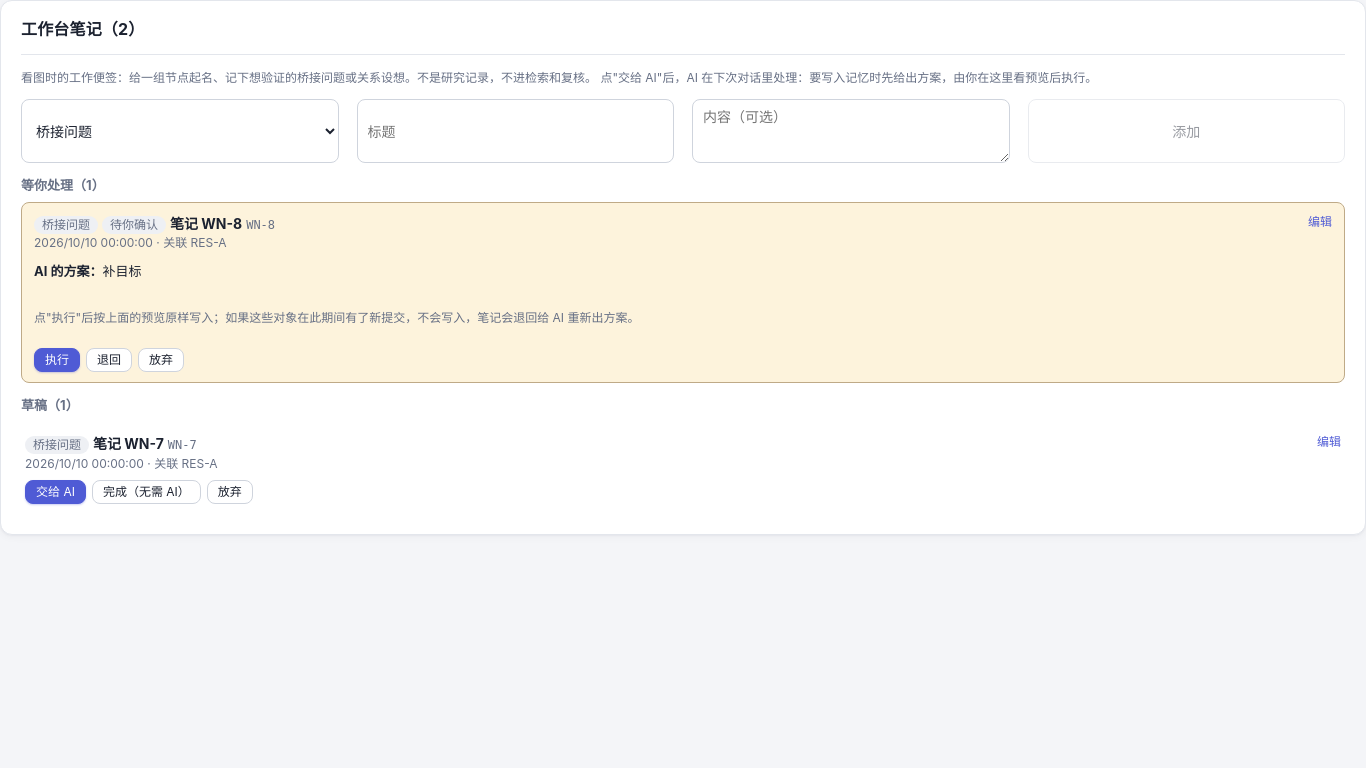
Scenario: 工作台笔记（R15） › 已添加的笔记可以编辑；改动待确认的方案会先确认并作废方案
The image size is (1366, 768).
Click the button with aria-label "编辑 WN-7".
click(1329, 443)  # box [1317, 433, 1341, 452]
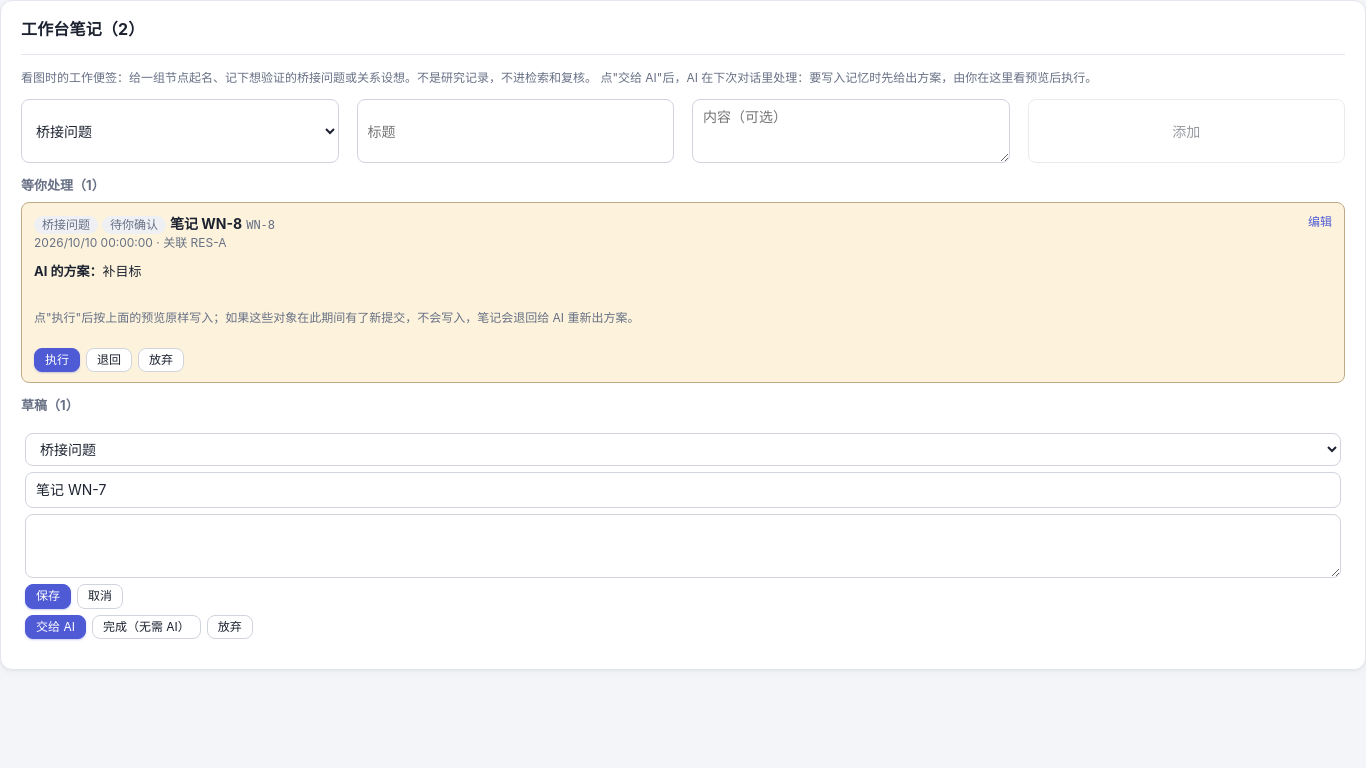
Replace the text in the field named "笔记标题" with "改过的标题" at (683, 490), box [25, 472, 1341, 508]
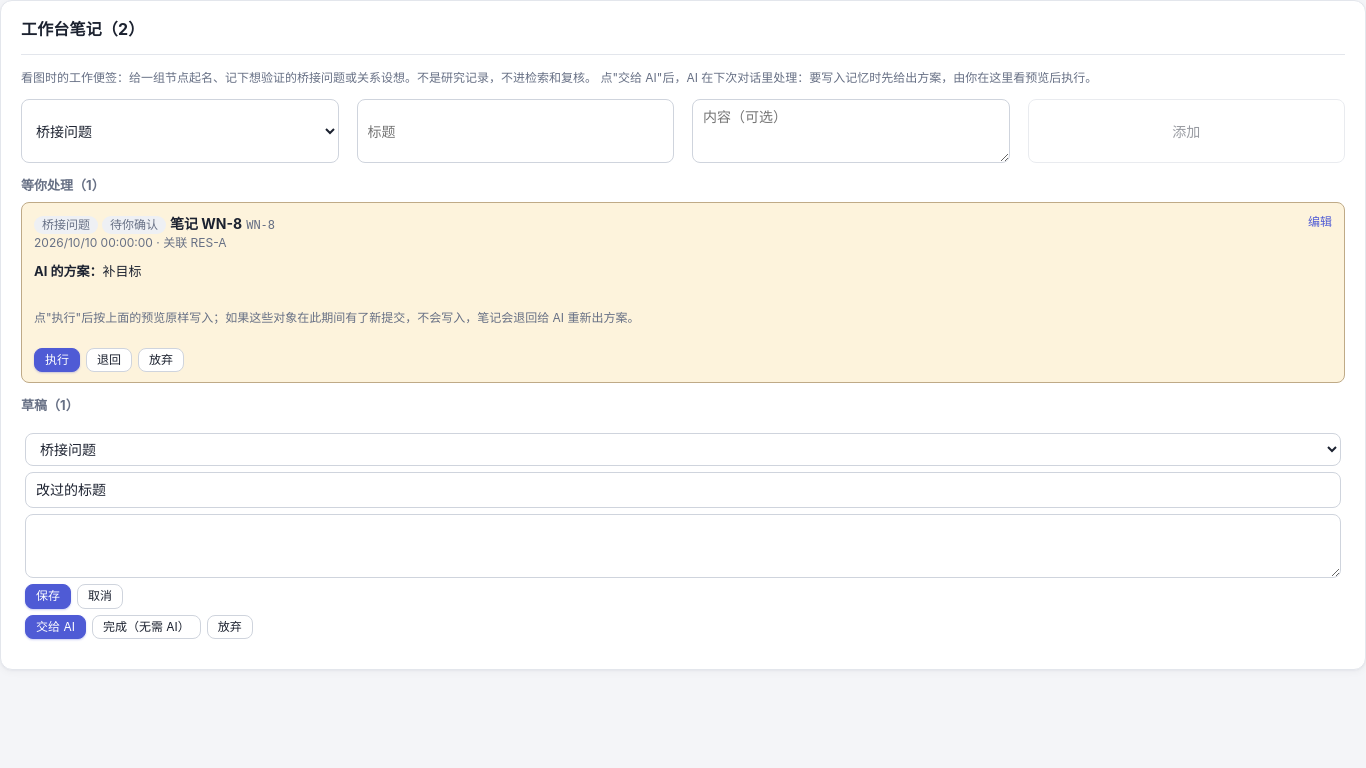
Type "补充说明" into the text box named "笔记内容".
click(683, 546); type("补充说明")  # box [25, 514, 1341, 578]
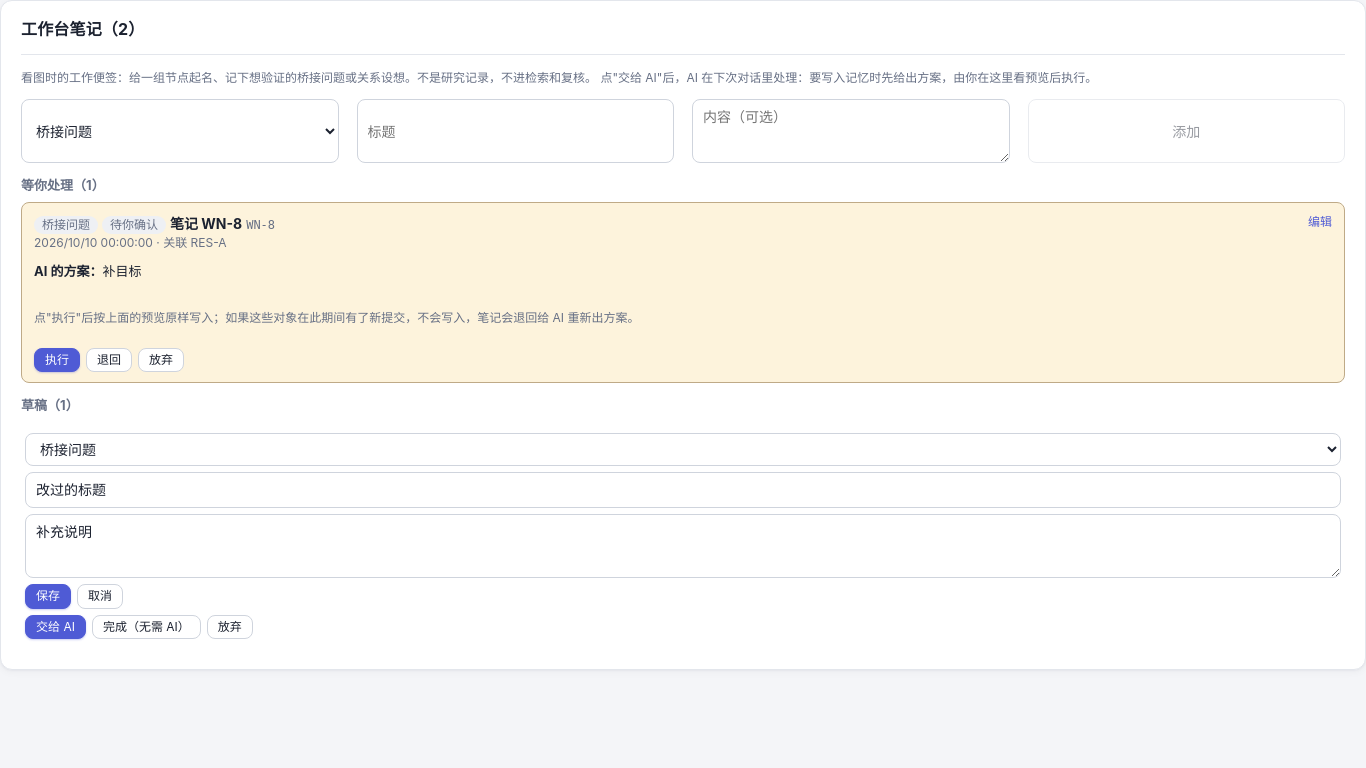
Click the button "保存".
click(48, 596)  # box [25, 584, 71, 609]
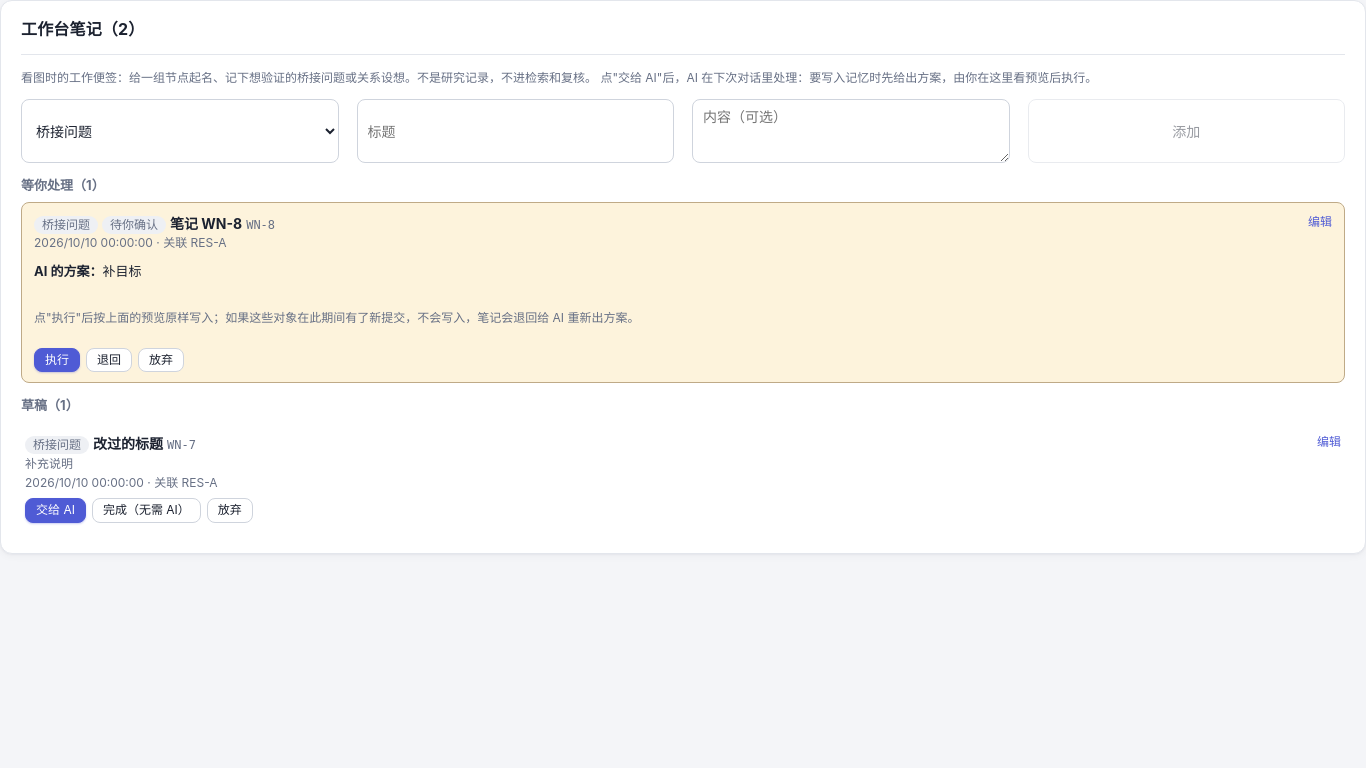
expect the text "改过的标题" is shown: met, box [93, 435, 163, 452]
Click the button with aria-label "编辑 WN-8".
click(1320, 222)  # box [1308, 212, 1332, 231]
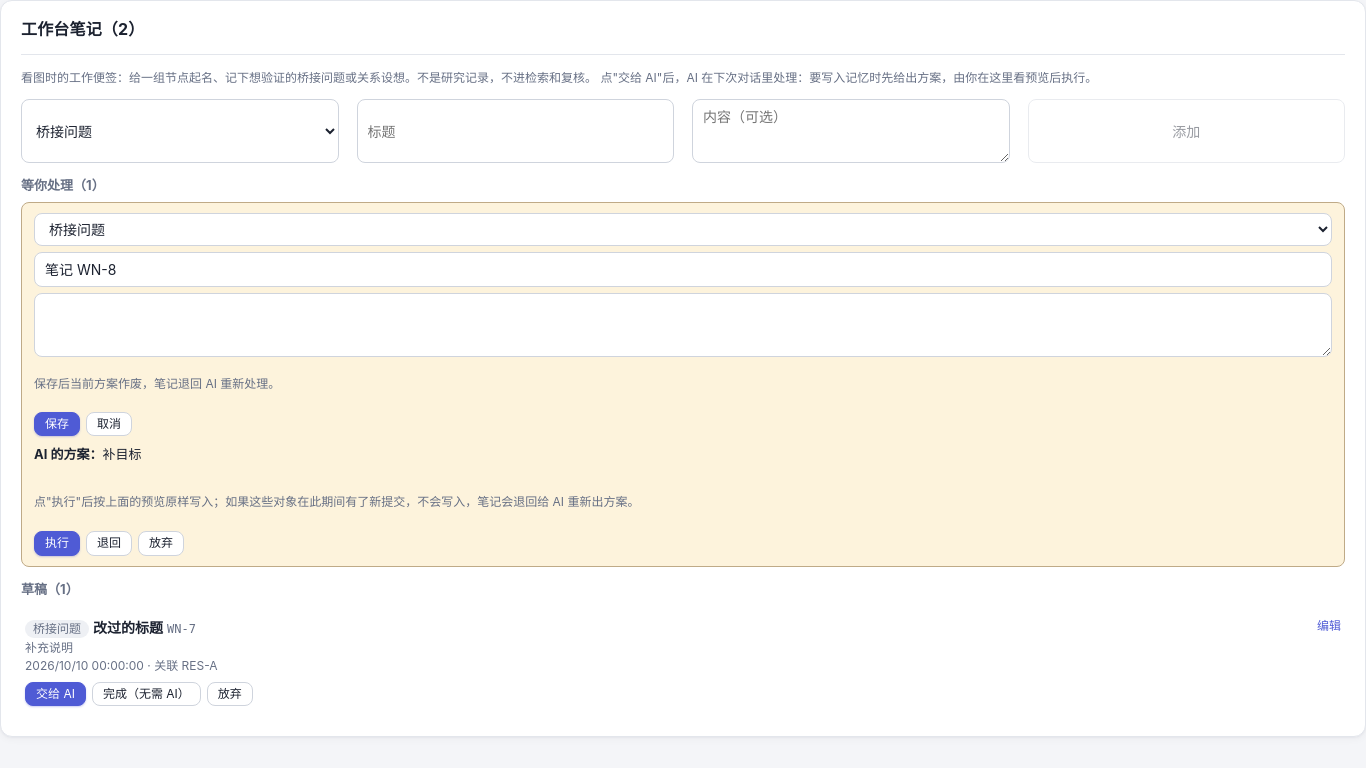
expect the text "保存后当前方案作废，笔记退回 AI 重新处理。" is shown: met, box [34, 376, 280, 391]
Click the button "保存".
click(57, 424)  # box [34, 412, 80, 436]
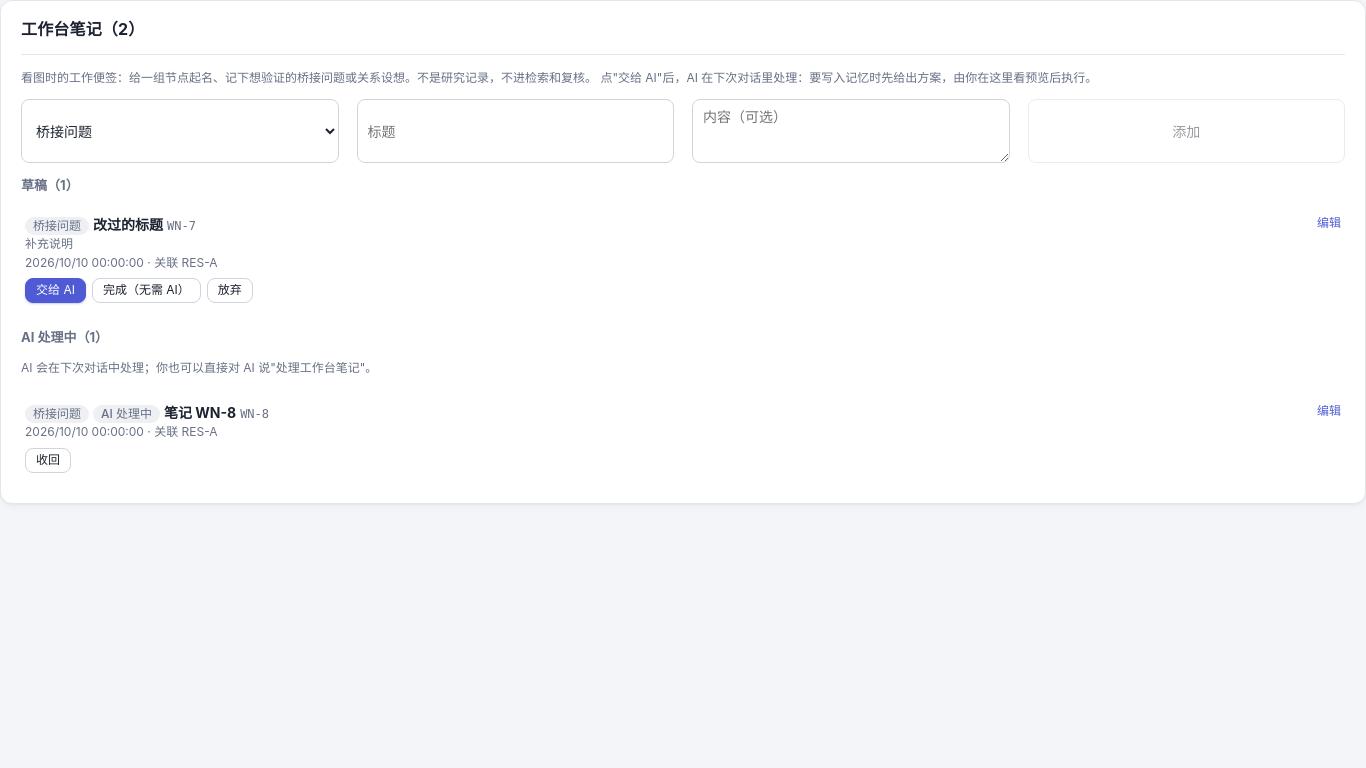
expect the heading "AI 处理中（1）" is shown: met, box [21, 329, 108, 345]
